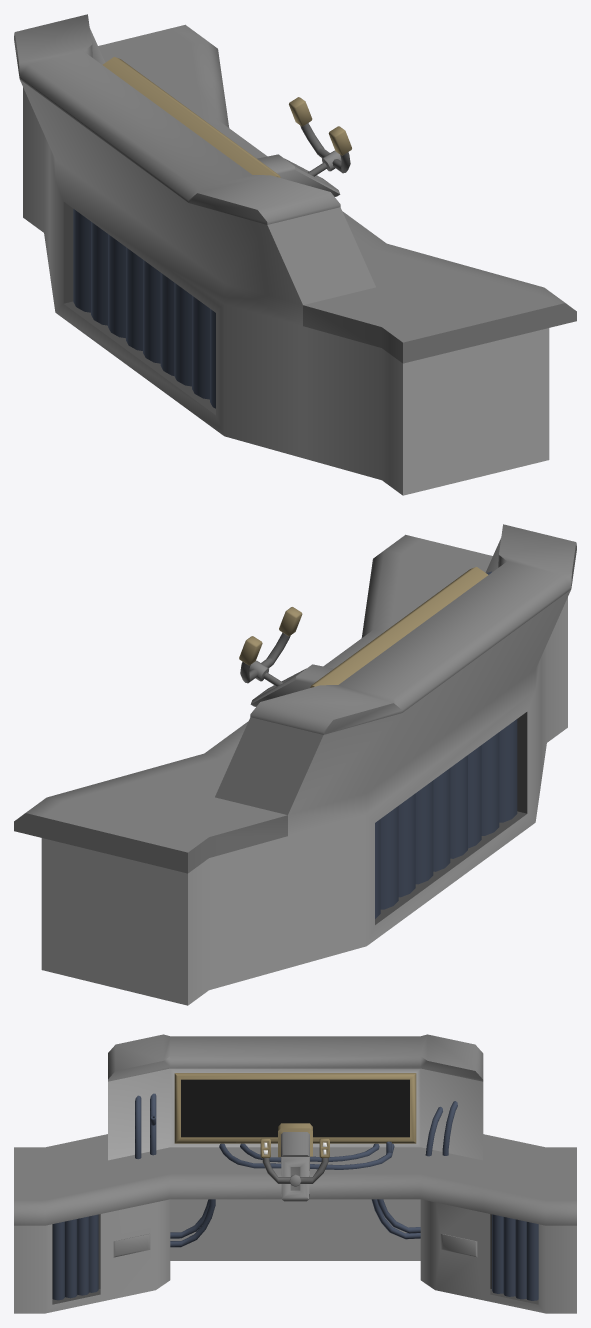
Rendered from Cons.fbx.
The picture shows the model from 3 angles, top to bottom: view 1: azimuth 30°, elevation 25°; view 2: azimuth 150°, elevation 25°; view 3: azimuth 270°, elevation 25°; orthographic projection. The views are drawn at different scales.
Visible parts, largest first — view 1: Cube; view 2: Cube; view 3: Cube.
Boxes of the visible parts, x1,y1,x2,y2 form: Cube: [14, 14, 576, 495]; Cube: [14, 524, 576, 1005]; Cube: [14, 1034, 576, 1313].
Bounding box in the file's own units: 387 × 332 × 900.
